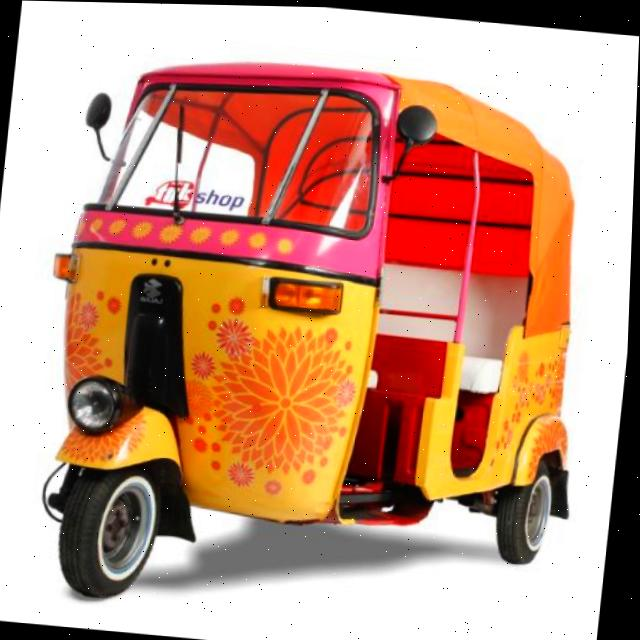cng: (47, 37, 627, 606)
